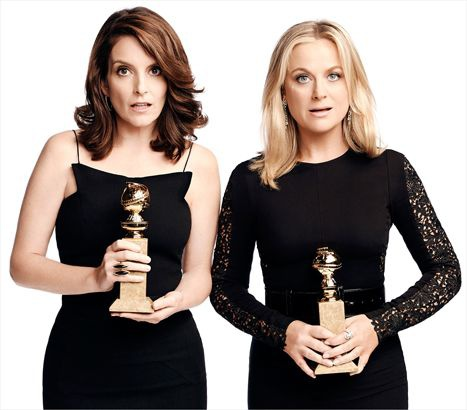hand: (98, 243, 148, 280)
